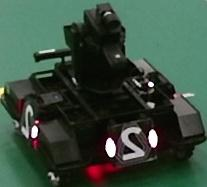armor_2: (106, 129, 157, 158)
front_2: (116, 122, 151, 163)
right_2: (19, 99, 34, 139)
